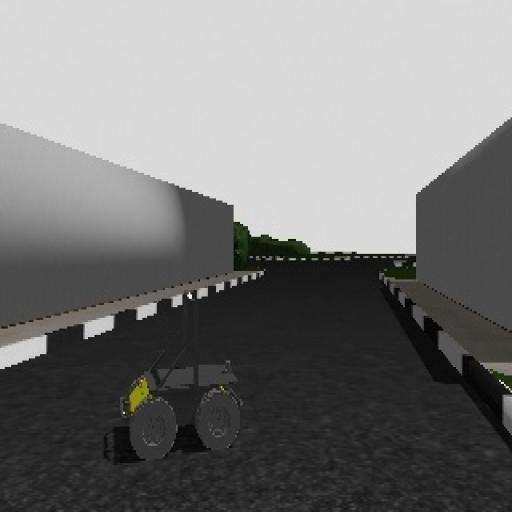huskya200: (99, 274, 275, 491)
